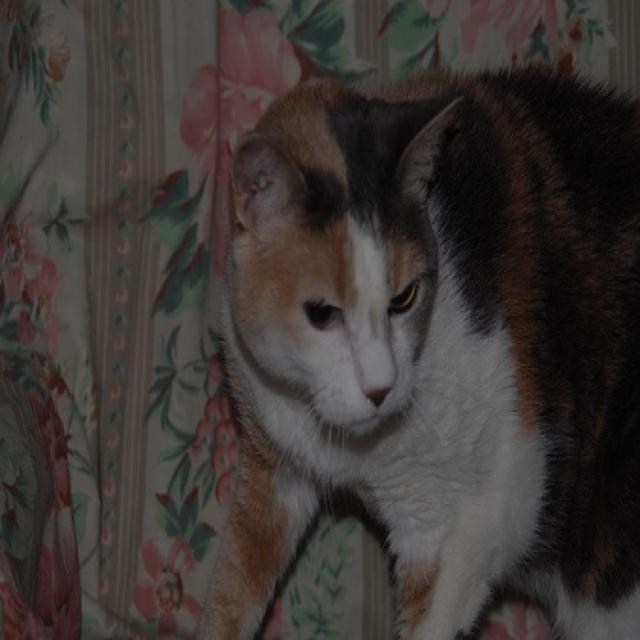cat: (194, 61, 638, 638)
